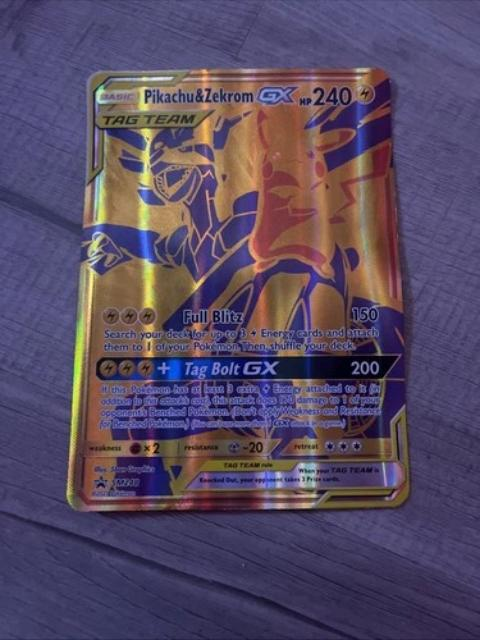Card: (61, 63, 414, 518)
Name: (140, 83, 306, 109)
